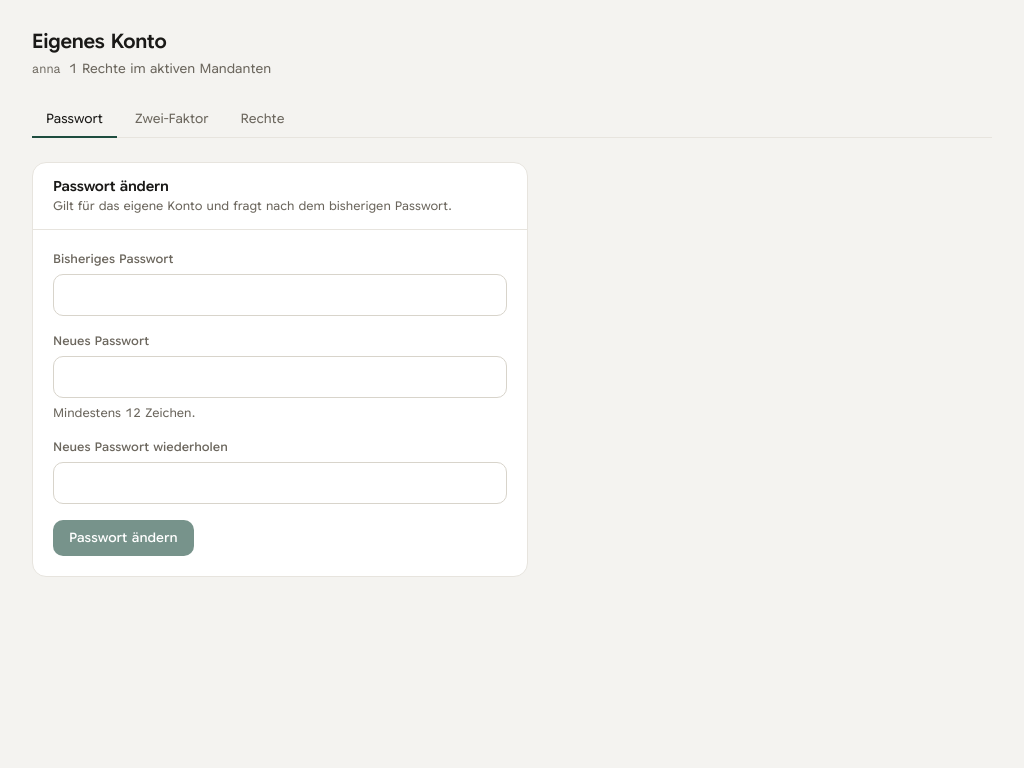
Test: ProfilePage › profilePageKeepsTheTwoOlderPanelsTest
The width and height of the screenshot is (1024, 768).
Click the tab "Rechte". click: [263, 120]
box: [227, 102, 298, 138]
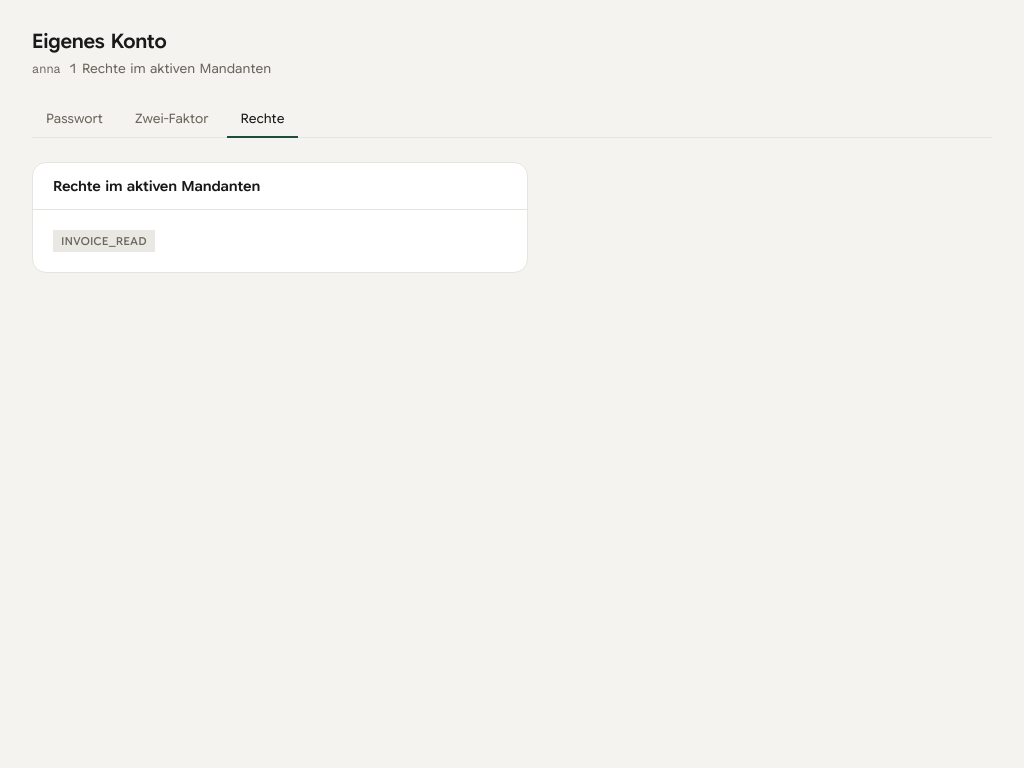
Expected: the text "Rechte im aktiven Mandanten" is shown, [78, 60, 271, 77]
Now the text "INVOICE_READ" is shown, box [53, 230, 155, 252]
